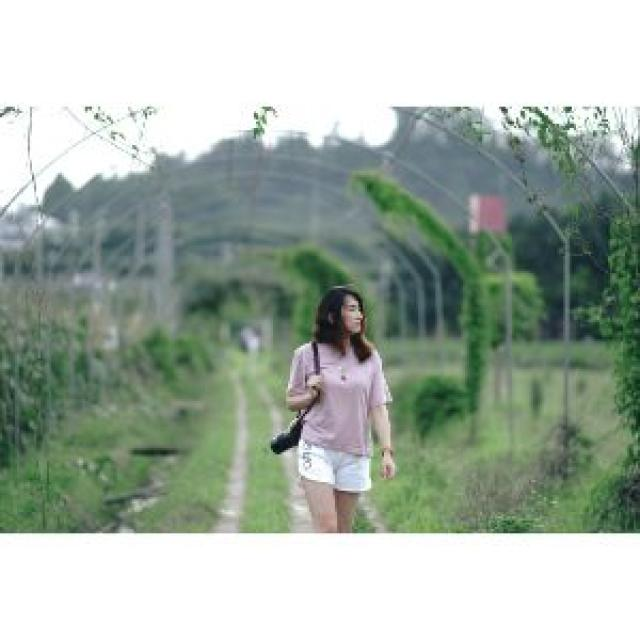nonfall: (289, 276, 413, 518)
